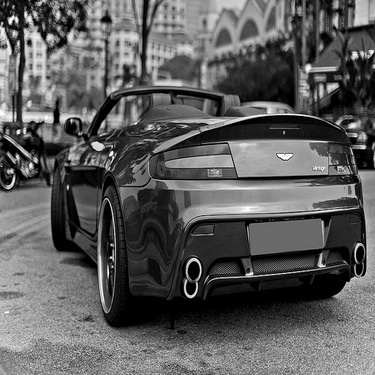car: (40, 78, 372, 333), (222, 89, 300, 130), (336, 105, 368, 171)
